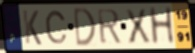C: (44, 10, 69, 46)
D: (72, 6, 97, 49)
H: (147, 6, 177, 47)
K: (21, 9, 43, 47)
R: (96, 8, 123, 46)
X: (123, 8, 153, 46)
